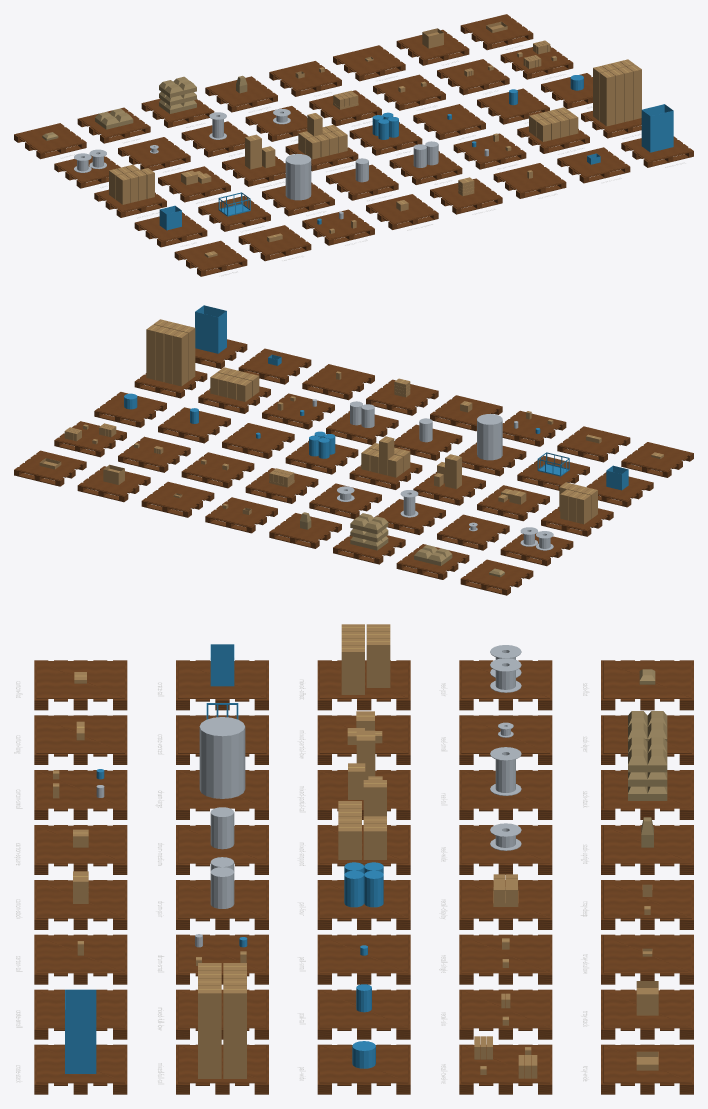
The picture shows the model from 3 angles, top to bottom: view 1: azimuth 30°, elevation 25°; view 2: azimuth 150°, elevation 25°; view 3: azimuth 270°, elevation 25°; orthographic projection. The views are drawn at different scales.
Parts seen in each view (by area): view 1: cargo-support-deck.107, cargo-support-deck.123, cargo-support-deck.091, cargo-support-deck.086, cargo-support-deck.115, cargo-support-deck.111, cargo-support-deck.122, cargo-support-deck.116, cargo-support-deck.118, cargo-support-deck.087, cargo-support-deck.089, cargo-support-deck.088 (+29 smaller); view 2: cargo-support-deck.107, cargo-support-deck.123, cargo-support-deck.091, cargo-support-deck.086, cargo-support-deck.115, cargo-support-deck.111, cargo-support-deck.122, cargo-support-deck.116, cargo-support-deck.087, cargo-support-deck.118, cargo-support-deck.099, cargo-support-deck.092 (+27 smaller); view 3: cargo-support-deck.107, cargo-support-deck.123, cargo-support-deck.091, cargo-support-deck.115, cargo-support-deck.116, cargo-support-deck.087, cargo-support-deck.122, cargo-support-deck.086, cargo-support-deck.089, cargo-support-deck.121, cargo-support-deck.108, cargo-support-deck.088 (+42 smaller).
Part boxes in pixels (box(x1,y1,x2,y2)): cargo-support-deck.107: box(415, 104, 483, 133); cargo-support-deck.123: box(335, 45, 403, 74); cargo-support-deck.091: box(496, 163, 564, 192); cargo-support-deck.086: box(177, 241, 245, 270); cargo-support-deck.115: box(375, 75, 443, 104); cargo-support-deck.111: box(120, 137, 188, 166); cargo-support-deck.122: box(271, 61, 339, 90); cargo-support-deck.116: box(439, 59, 507, 88); cargo-support-deck.118: box(16, 123, 84, 152); cargo-support-deck.087: box(240, 225, 308, 254); cargo-support-deck.089: box(368, 194, 436, 223); cargo-support-deck.088: box(304, 210, 372, 239); cargo-support-deck.107: box(224, 423, 292, 452); cargo-support-deck.123: box(143, 482, 211, 511); cargo-support-deck.091: box(304, 364, 372, 393); cargo-support-deck.086: box(623, 442, 691, 471); cargo-support-deck.115: box(184, 452, 252, 481); cargo-support-deck.111: box(439, 515, 507, 544); cargo-support-deck.122: box(207, 497, 275, 526); cargo-support-deck.116: box(120, 437, 188, 466); cargo-support-deck.087: box(559, 426, 627, 455); cargo-support-deck.118: box(462, 560, 531, 588); cargo-support-deck.099: box(264, 394, 332, 422); cargo-support-deck.092: box(240, 349, 309, 377); cargo-support-deck.107: box(319, 935, 408, 973); cargo-support-deck.123: box(603, 935, 691, 973); cargo-support-deck.091: box(36, 935, 124, 973); cargo-support-deck.115: box(461, 935, 550, 973); cargo-support-deck.116: box(461, 990, 550, 1028); cargo-support-deck.087: box(36, 715, 124, 753); cargo-support-deck.122: box(603, 880, 691, 918); cargo-support-deck.086: box(36, 661, 124, 698); cargo-support-deck.089: box(36, 825, 124, 863); cargo-support-deck.121: box(603, 825, 691, 863); cargo-support-deck.108: box(319, 990, 408, 1028); cargo-support-deck.088: box(36, 770, 124, 808).
Bounding box in the file's own units: 12.75 × 1.35 × 8.64.
6 materials, 2 textured.
